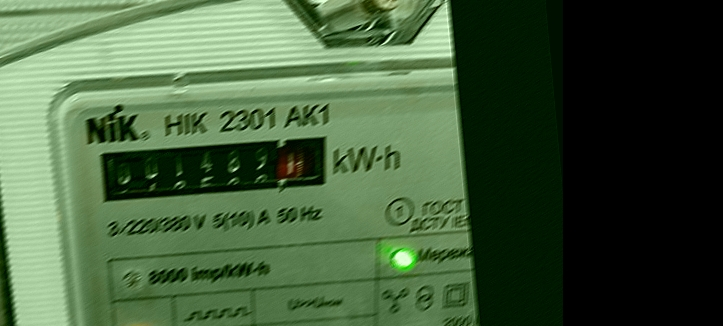0: (141, 152, 159, 179), (115, 159, 132, 185)
1: (170, 149, 187, 179), (282, 145, 297, 176)
4: (197, 147, 215, 175)
8: (223, 145, 242, 173)
9: (252, 144, 269, 171)
screen: (84, 120, 346, 219)
